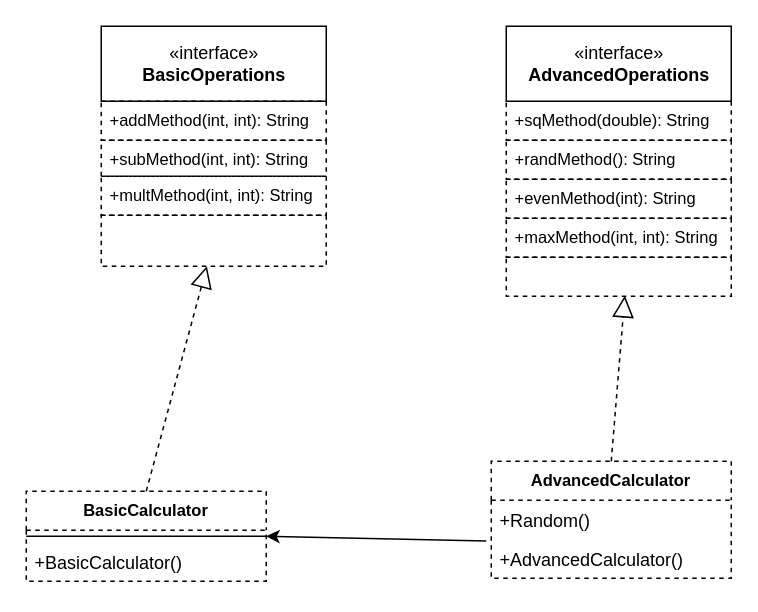
This 758x612 diagram has some shape labels left out. Here are the shapes that lost their labels. From the top down, the centre of each, then its label:
At point 213,240: "+divMethod(double,double): String".
At point 618,276: "+minMethod(int, int): String".
